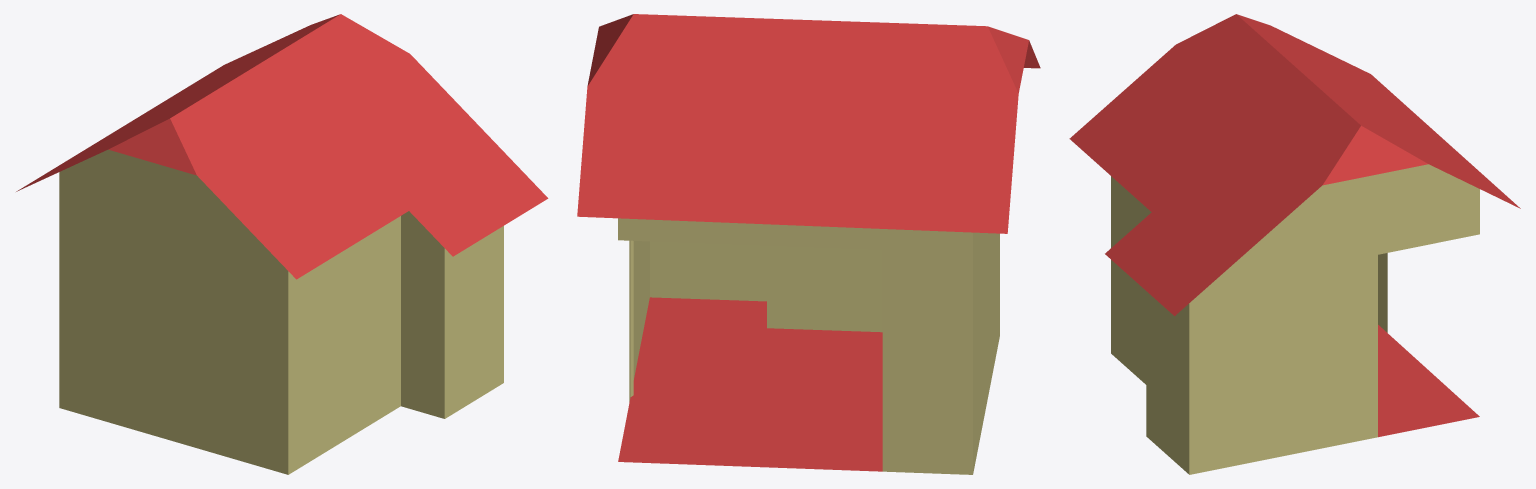
The picture shows the model from 3 angles, left to right: view 1: azimuth 30°, elevation 25°; view 2: azimuth 150°, elevation 25°; view 3: azimuth 270°, elevation 25°; orthographic projection. The views are drawn at different scales.
Bounding box in the file's own units: 15.59 × 14.48 × 11.1.
